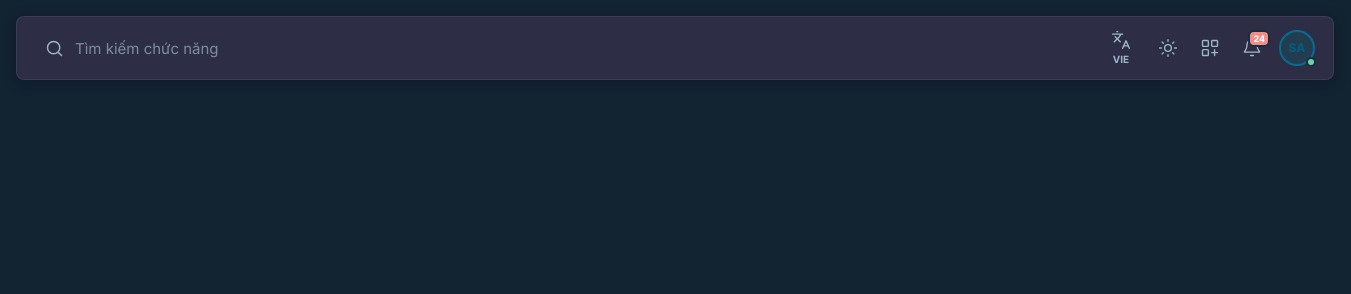
it: AppTopbar › icon đánh dấu tất cả đã đọc gọi mutation và giữ bảng thông báo mở
What coordinates should you click on to do the following:
click the button named "Thông báo, 24"
I would click on:
 (1252, 48)
Its box is [1233,29,1271,67].
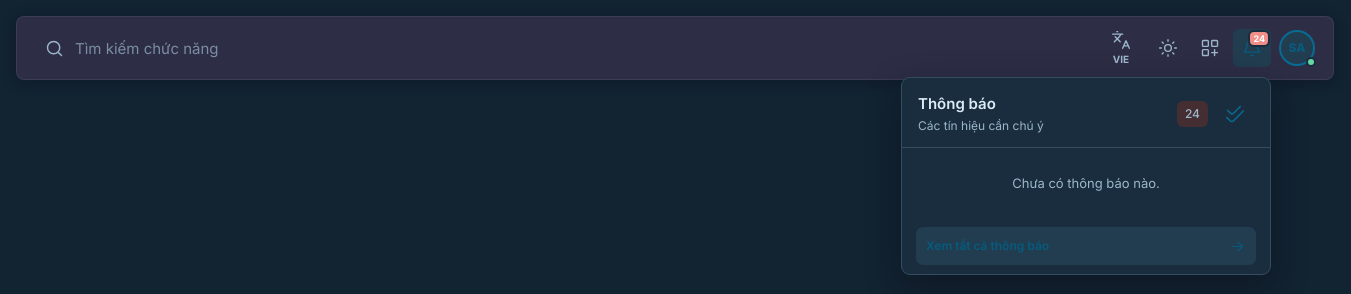
Now the menu item named "Đánh dấu tất cả đã đọc" is enabled
What coordinates should you click on to do the following:
click the menu item named "Đánh dấu tất cả đã đọc"
I would click on:
 (1235, 114)
Its box is [1216,95,1254,133].
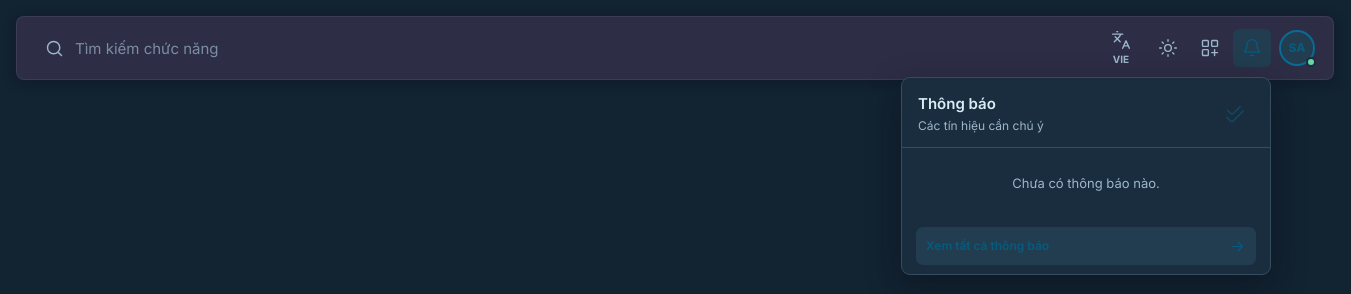
Now the button named "Thông báo, 24" is expanded, box [1233,29,1271,67]
Now the button named "Thông báo" is expanded, box [1233,29,1271,67]
Now the menu item named "Đánh dấu tất cả đã đọc" is disabled, box [1216,95,1254,133]
